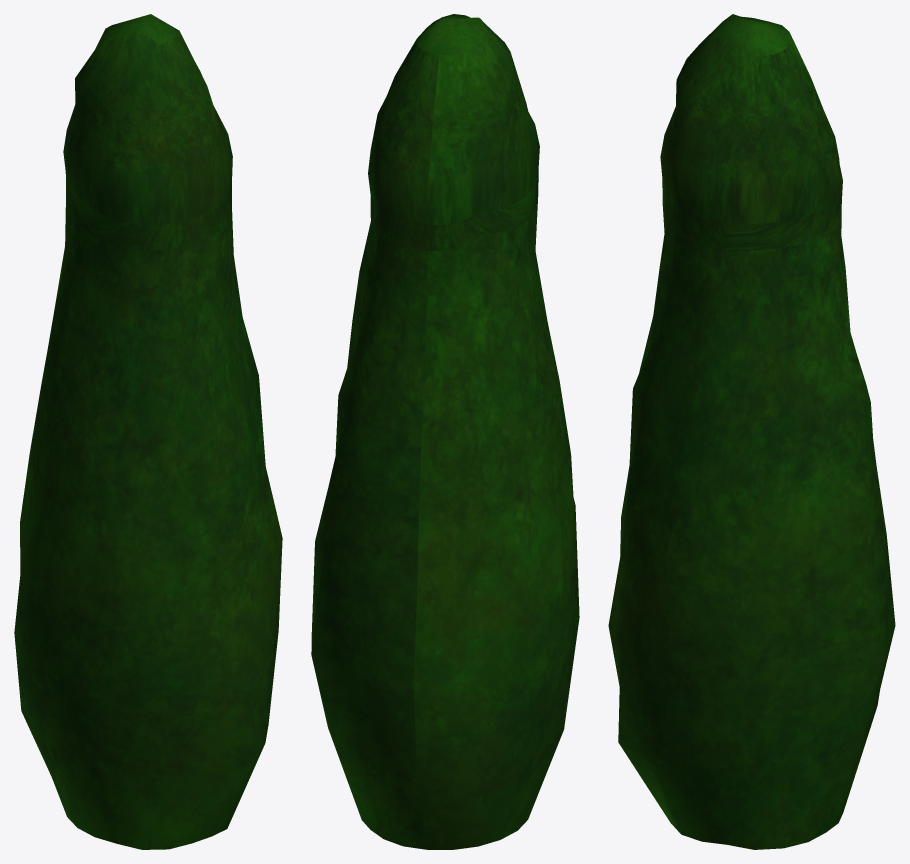
Rendered from Dick_bush (2).fbx.
The picture shows the model from 3 angles, left to right: view 1: azimuth 30°, elevation 25°; view 2: azimuth 150°, elevation 25°; view 3: azimuth 270°, elevation 25°; orthographic projection.
Parts seen in each view (by area): view 1: pCylinder1; view 2: pCylinder1; view 3: pCylinder1.
Part boxes in pixels (x1=…): pCylinder1: x1=14, y1=14, x2=282, y2=849; pCylinder1: x1=311, y1=14, x2=579, y2=849; pCylinder1: x1=608, y1=14, x2=895, y2=849.
Bounding box in the file's own units: 86.43 × 285 × 93.84.
